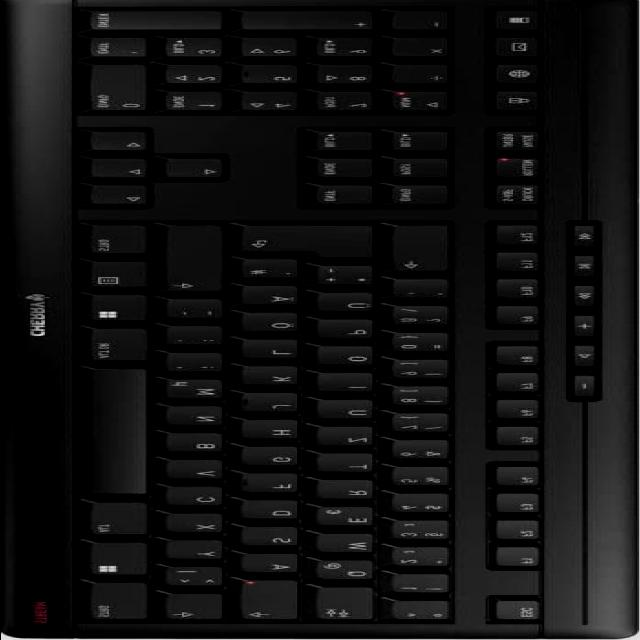0: (391, 333, 457, 355)
1: (390, 575, 454, 596)
2: (390, 548, 456, 569)
3: (390, 521, 458, 543)
4: (392, 494, 456, 516)
5: (390, 467, 458, 489)
6: (390, 440, 458, 462)
7: (392, 414, 456, 435)
8: (390, 387, 456, 409)
9: (390, 360, 456, 381)
a: (242, 554, 306, 575)
accent: (393, 280, 455, 301)
ae: (242, 287, 304, 307)
alt-left: (88, 502, 150, 537)
altgr-right: (86, 327, 152, 365)
b: (169, 434, 231, 456)
c: (167, 488, 231, 509)
caret: (391, 602, 457, 624)
comma: (165, 355, 229, 375)
d: (242, 501, 306, 521)
del: (391, 226, 457, 274)
e: (315, 508, 383, 529)
enter: (238, 226, 382, 260)
f: (244, 474, 306, 495)
g: (244, 447, 304, 468)
h: (244, 421, 304, 442)
hash: (240, 261, 304, 281)
i: (321, 375, 379, 395)
j: (244, 394, 304, 414)
k: (244, 367, 304, 387)
keyboard: (2, 0, 640, 640)
l: (244, 340, 304, 361)
less: (165, 567, 231, 589)
m: (165, 381, 231, 402)
minus: (167, 301, 229, 322)
n: (167, 407, 231, 428)
o: (319, 348, 381, 368)
oe: (242, 314, 304, 334)
p: (319, 321, 381, 341)
plus: (315, 266, 381, 287)
point: (167, 327, 229, 347)
q: (313, 560, 383, 583)
r: (319, 481, 381, 502)
s: (242, 528, 306, 549)
shift-left: (165, 594, 229, 622)
shift-lock: (244, 582, 306, 622)
shift-right: (169, 226, 229, 293)
space: (90, 370, 154, 496)
ss: (390, 307, 456, 328)
strg-left: (86, 584, 156, 623)
strg-right: (88, 225, 154, 257)
t: (319, 455, 381, 475)
tab: (319, 589, 381, 622)
u: (319, 401, 381, 421)
ue: (317, 294, 381, 314)
v: (167, 461, 229, 481)
w: (318, 535, 382, 555)
x: (167, 515, 229, 535)
y: (167, 542, 229, 562)
z: (319, 428, 381, 448)
